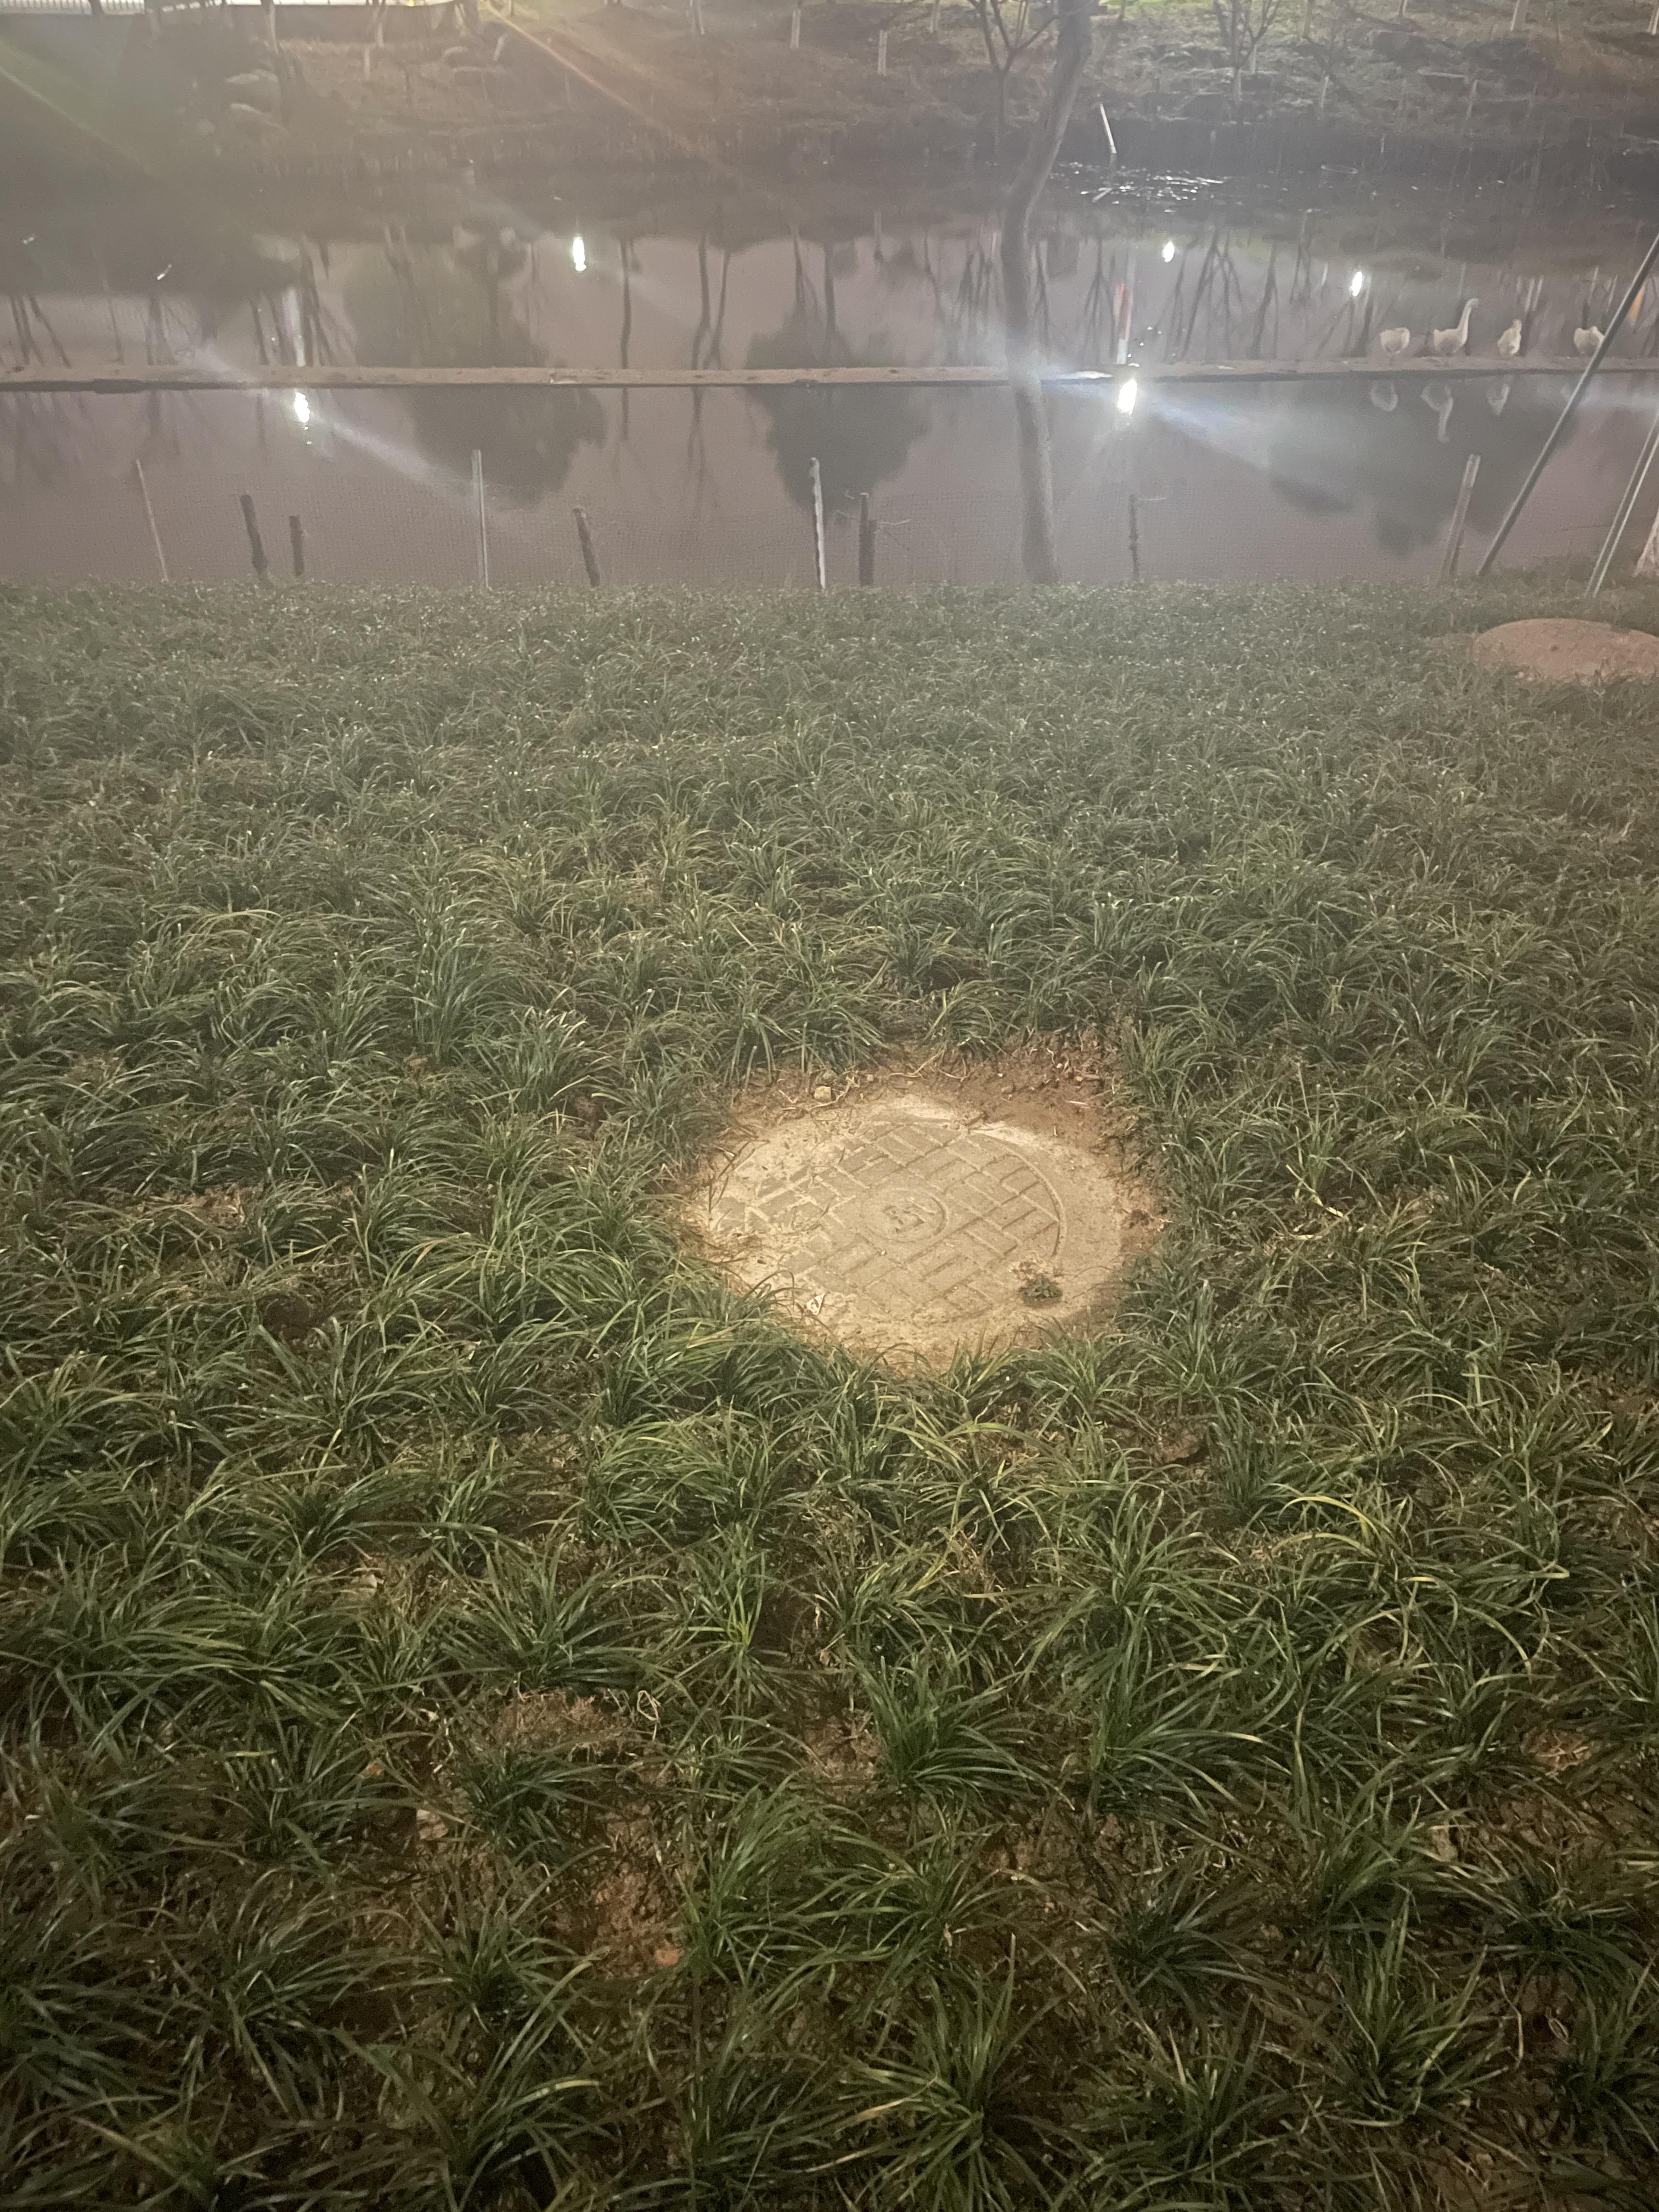wellcover: (633, 1083, 1199, 1402)
